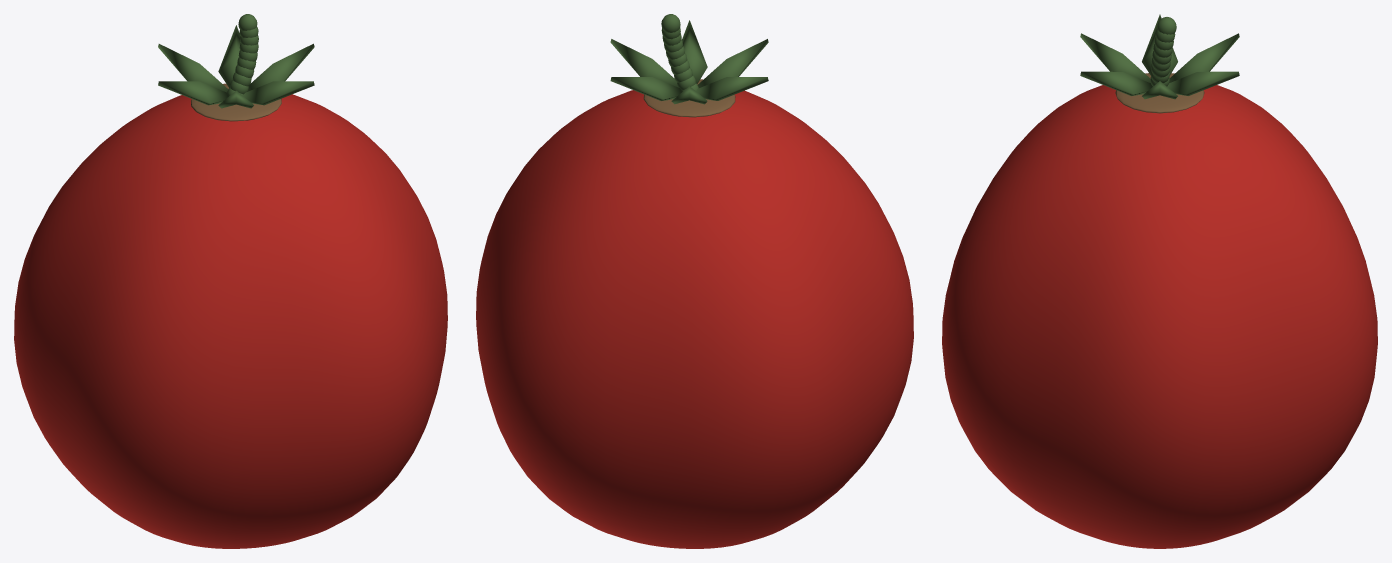
File: big_boy.glb
The picture shows the model from 3 angles, left to right: view 1: azimuth 30°, elevation 25°; view 2: azimuth 150°, elevation 25°; view 3: azimuth 270°, elevation 25°; orthographic projection.
Visible parts, largest first — view 1: Tall five-shouldered Big Boy globe, Upright folded six-point Big Boy calyx, Wide Big Boy top scar; view 2: Tall five-shouldered Big Boy globe, Upright folded six-point Big Boy calyx, Wide Big Boy top scar; view 3: Tall five-shouldered Big Boy globe, Upright folded six-point Big Boy calyx, Wide Big Boy top scar.
Boxes of the visible parts, box(x1,y1,x2,y2) form: Tall five-shouldered Big Boy globe: box(14, 94, 447, 548); Upright folded six-point Big Boy calyx: box(158, 14, 314, 108); Wide Big Boy top scar: box(191, 83, 281, 121); Tall five-shouldered Big Boy globe: box(476, 90, 913, 548); Upright folded six-point Big Boy calyx: box(610, 14, 768, 104); Wide Big Boy top scar: box(643, 79, 735, 117); Tall five-shouldered Big Boy globe: box(942, 85, 1377, 548); Upright folded six-point Big Boy calyx: box(1080, 14, 1239, 99); Wide Big Boy top scar: box(1115, 73, 1204, 113).
Size of the model in its own units: 1.58 by 2.05 by 1.56.
